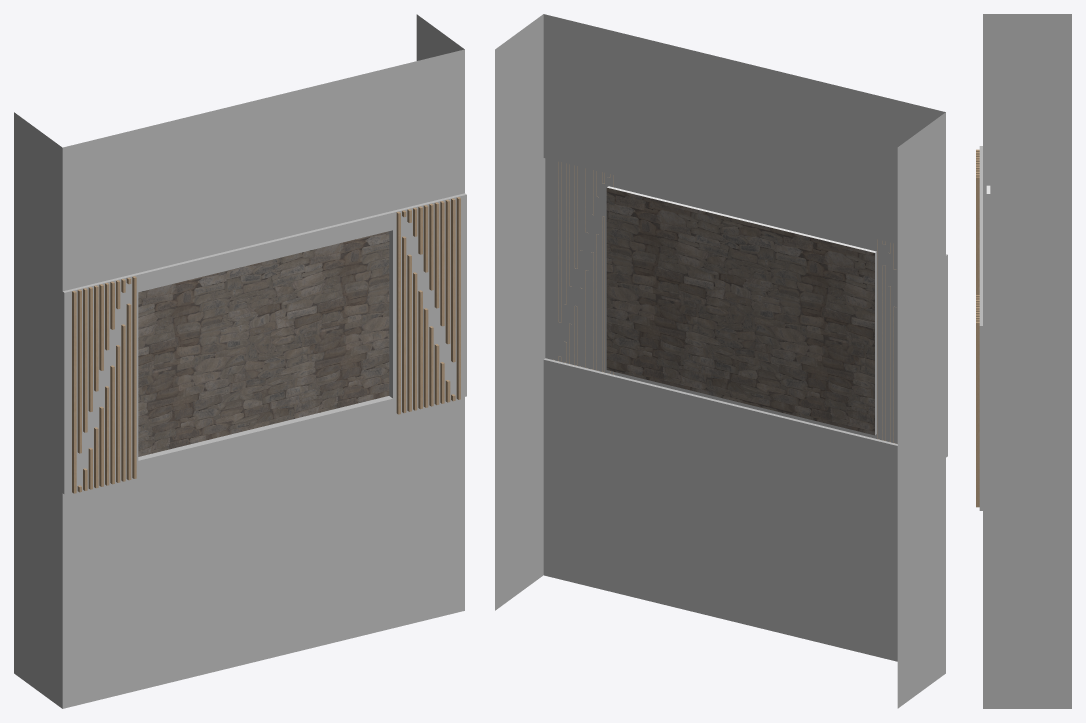
3 renders of one model, left to right at view 1: azimuth 30°, elevation 25°; view 2: azimuth 150°, elevation 25°; view 3: azimuth 270°, elevation 25°, orthographic. The views are drawn at different scales.
Parts seen in each view (by area): view 1: M_W_301_b_12x6; view 2: M_W_301_b_12x6; view 3: M_W_301_b_12x6.
Part boxes in pixels (x1=…): M_W_301_b_12x6: x1=14, y1=14, x2=466, y2=708; M_W_301_b_12x6: x1=495, y1=14, x2=947, y2=708; M_W_301_b_12x6: x1=976, y1=14, x2=1071, y2=708.
Size of the model in its own units: 12 by 16 by 2.7.
